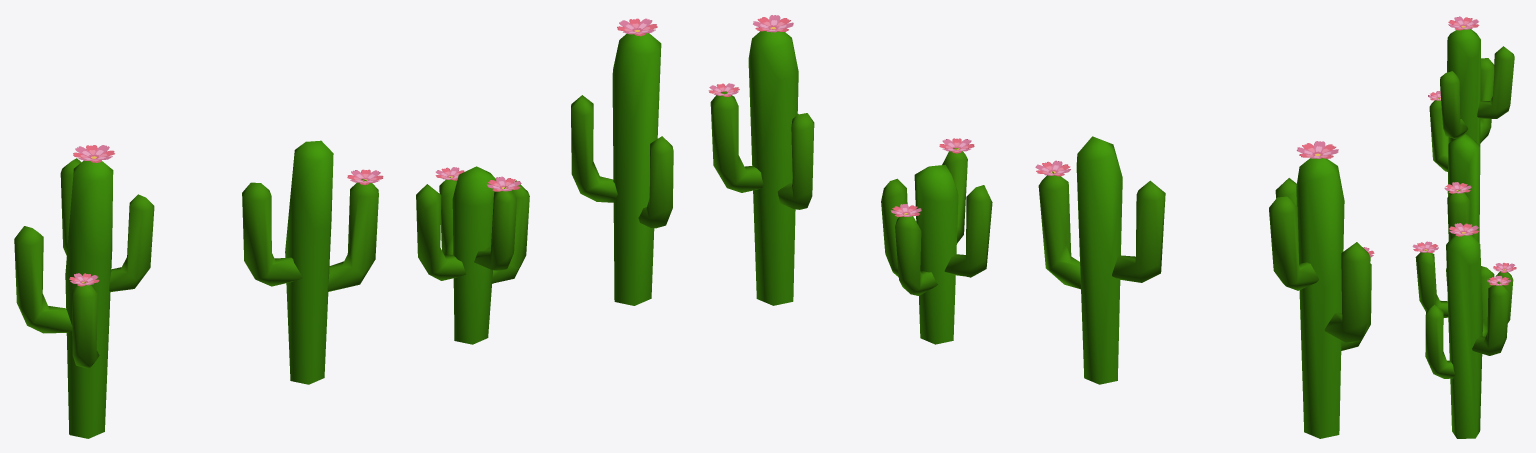
Rendered from Cactus.fbx.
3 views of the same model, side by side, from view 1: azimuth 30°, elevation 25°; view 2: azimuth 150°, elevation 25°; view 3: azimuth 270°, elevation 25° (orthographic). The views are drawn at different scales.
Visible parts, largest first — view 1: Cactus A lot of Braches LOD, Cactus Midddle LOD, CactusTall LOD, Cactus LOD; view 2: Cactus A lot of Braches LOD, CactusTall LOD, Cactus Midddle LOD, Cactus LOD; view 3: CactusTall LOD, Cactus A lot of Braches LOD, Cactus Midddle LOD, Cactus LOD.
Boxes of the visible parts, bbox=[...] form: Cactus A lot of Braches LOD: bbox=[14, 145, 154, 438]; Cactus Midddle LOD: bbox=[242, 140, 383, 384]; CactusTall LOD: bbox=[571, 18, 673, 305]; Cactus LOD: bbox=[416, 166, 529, 344]; Cactus A lot of Braches LOD: bbox=[1269, 141, 1374, 438]; CactusTall LOD: bbox=[708, 15, 814, 305]; Cactus Midddle LOD: bbox=[1035, 136, 1165, 384]; Cactus LOD: bbox=[881, 138, 992, 344]; CactusTall LOD: bbox=[1425, 223, 1510, 438]; Cactus A lot of Braches LOD: bbox=[1428, 16, 1514, 171]; Cactus Midddle LOD: bbox=[1444, 134, 1480, 242]; Cactus LOD: bbox=[1412, 241, 1516, 323].
Bounding box in the file's own units: 33.18 × 13.62 × 6.57.
